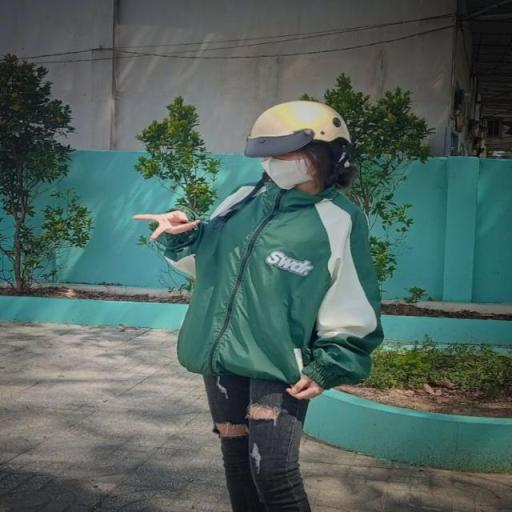with helmet: (241, 97, 368, 161)
